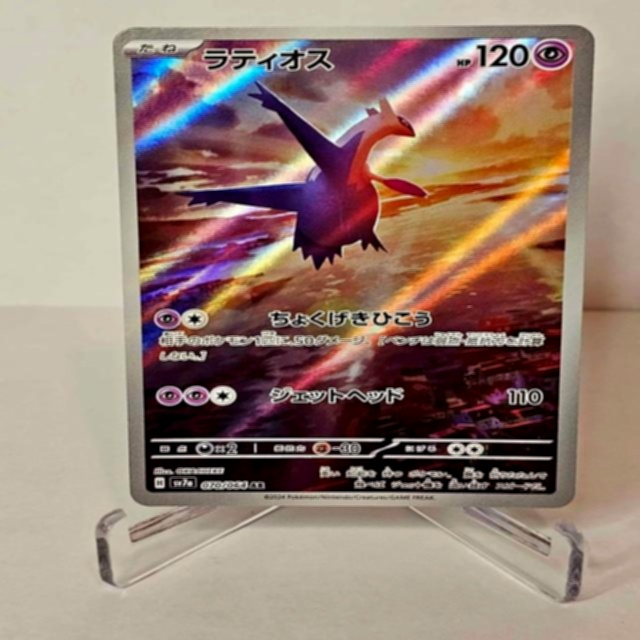card: (113, 24, 598, 508)
